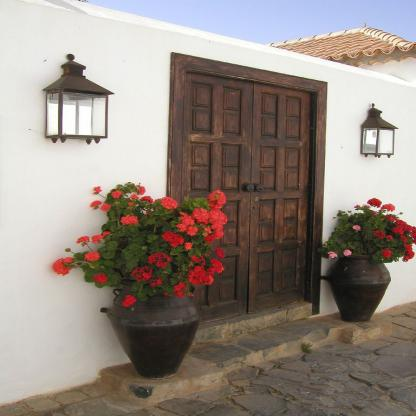vase: (105, 279, 204, 380), (326, 254, 392, 322)
